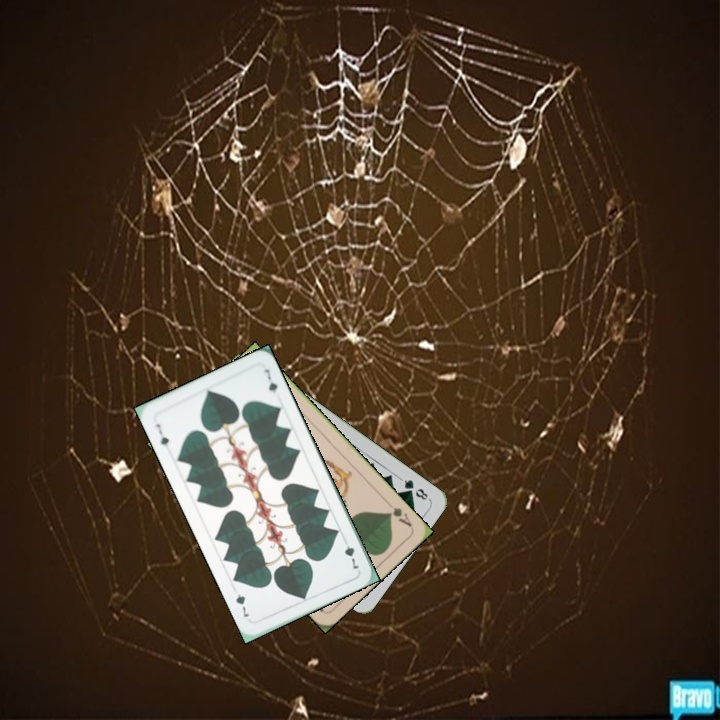G7: (339, 534, 362, 572), (152, 420, 171, 449)
G8: (396, 475, 432, 503)
GA: (383, 503, 414, 529)
